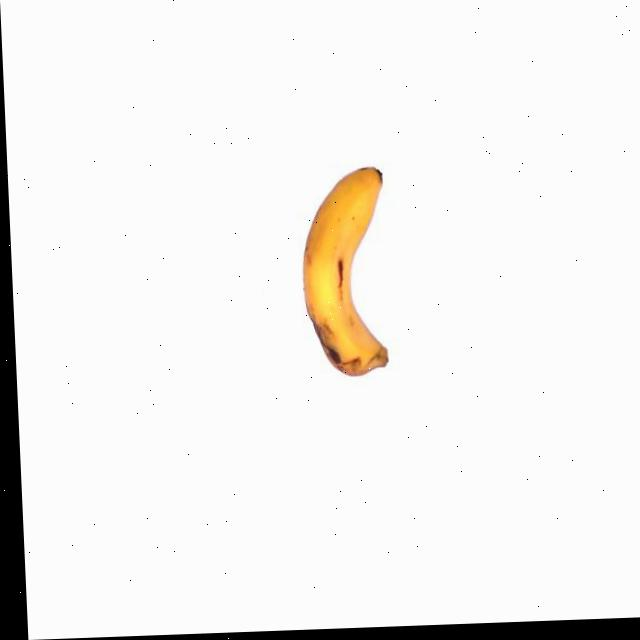banana: (296, 162, 400, 380)
